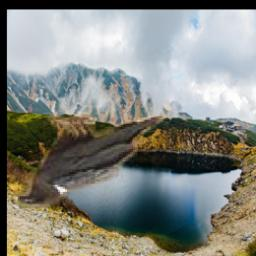Crow: (14, 111, 169, 209)
